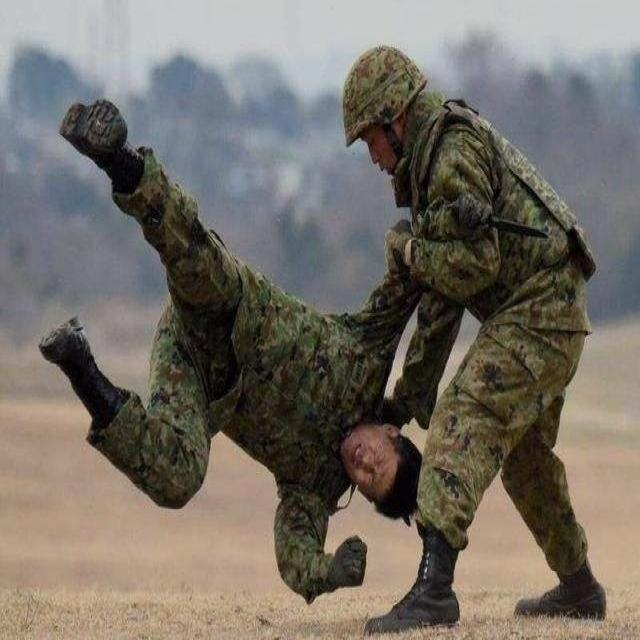fight: (43, 45, 639, 620)
